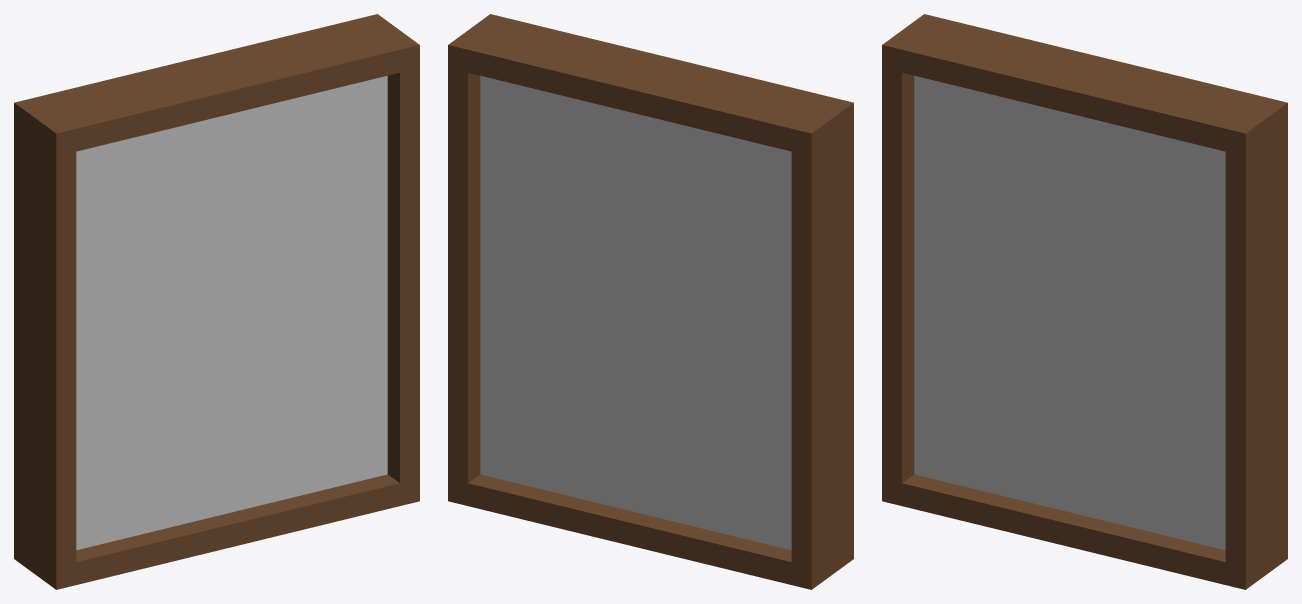
Rendered from Windows_02.fbx.
3 views of the same model, side by side, from view 1: azimuth 30°, elevation 25°; view 2: azimuth 150°, elevation 25°; view 3: azimuth 330°, elevation 25° (orthographic).
Visible parts, largest first — view 1: Glass, Windows_02; view 2: Glass, Windows_02; view 3: Glass, Windows_02.
Boxes of the visible parts, x1,y1,x2,y2 form: Glass: (76,75,387,550); Windows_02: (14,14,419,589); Glass: (480,75,791,550); Windows_02: (448,14,853,589); Glass: (914,75,1225,550); Windows_02: (882,14,1287,589).
Size of the model in its own units: 81 by 97.18 by 16.31.
Materials: 2 (1 with a texture image).
